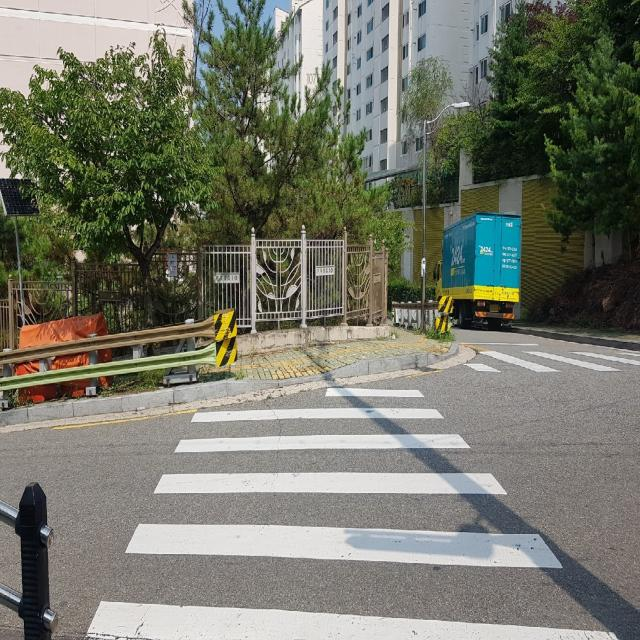횡단보도: (79, 380, 622, 640), (465, 345, 640, 378)
